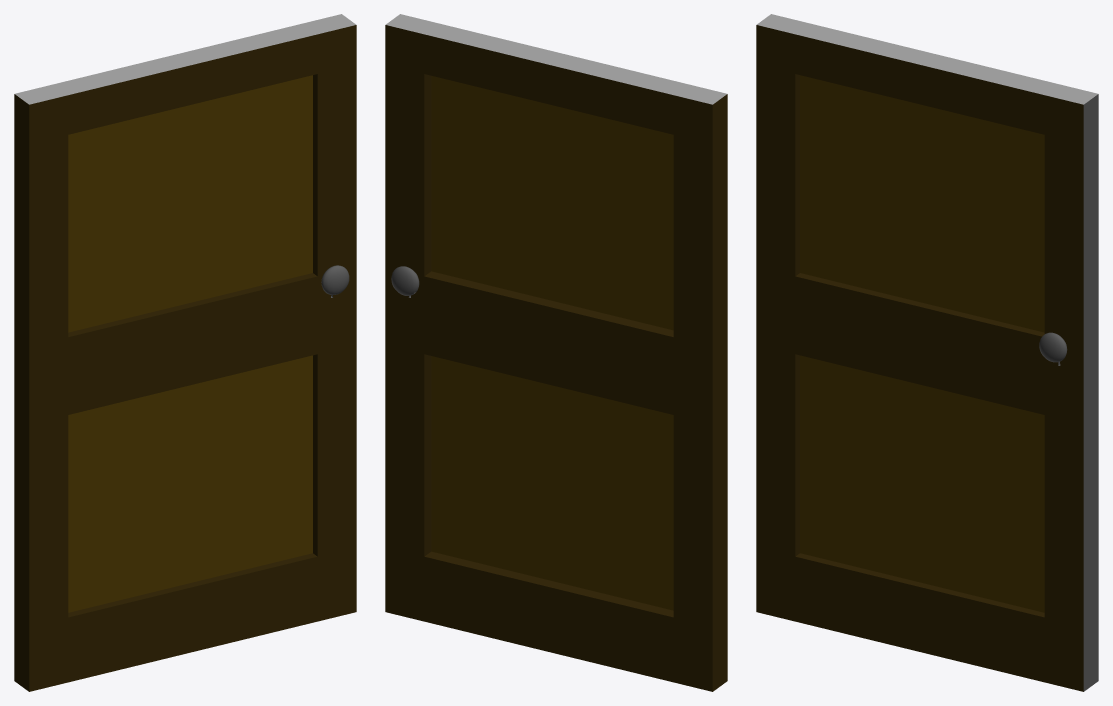
File: Porte.fbx
3 views of the same model, side by side, from view 1: azimuth 30°, elevation 25°; view 2: azimuth 150°, elevation 25°; view 3: azimuth 330°, elevation 25° (orthographic).
Parts seen in each view (by area): view 1: pCube15; view 2: pCube15; view 3: pCube15.
Boxes of the visible parts, x1,y1,x2,y2 form: pCube15: (14, 14, 356, 691); pCube15: (385, 14, 727, 691); pCube15: (756, 14, 1098, 691).
Size of the model in its own units: 6.09 by 10.43 by 1.05.
